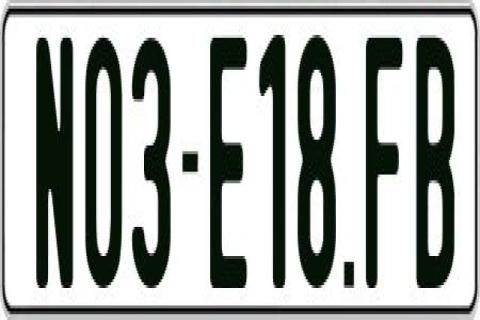0: (130, 29, 172, 282), (83, 32, 124, 291), (295, 26, 333, 291), (258, 32, 284, 302)
B: (412, 38, 454, 288)
E: (210, 35, 248, 294)
F: (366, 35, 404, 299)
N: (36, 38, 73, 297)
